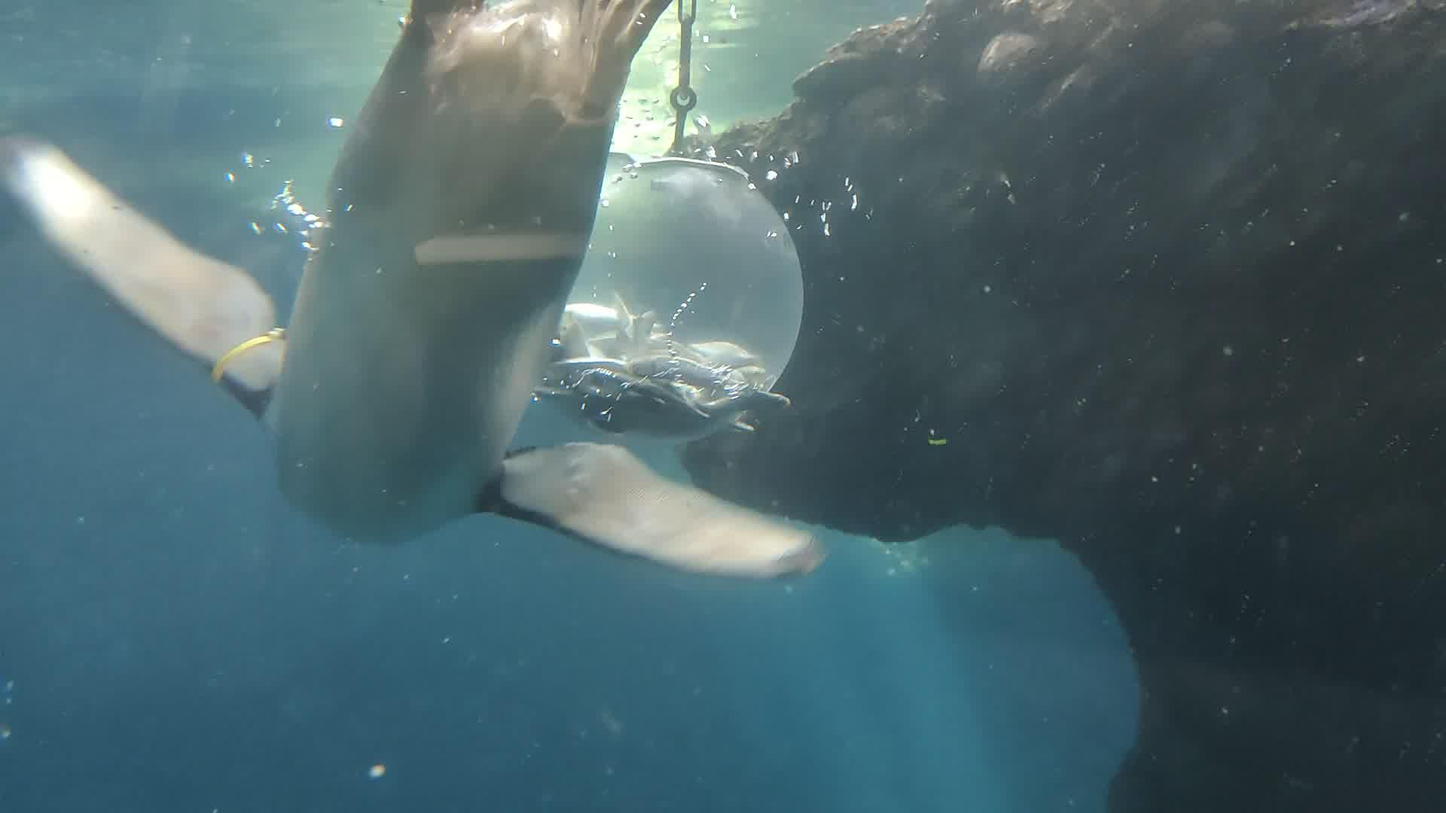apple: (0, 0, 827, 582)
